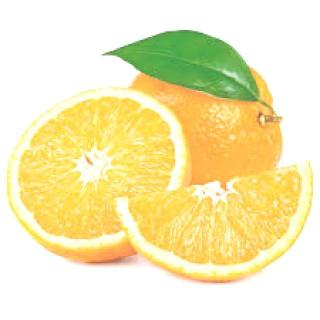orange: (0, 72, 190, 279), (121, 20, 313, 222), (117, 152, 320, 300)
